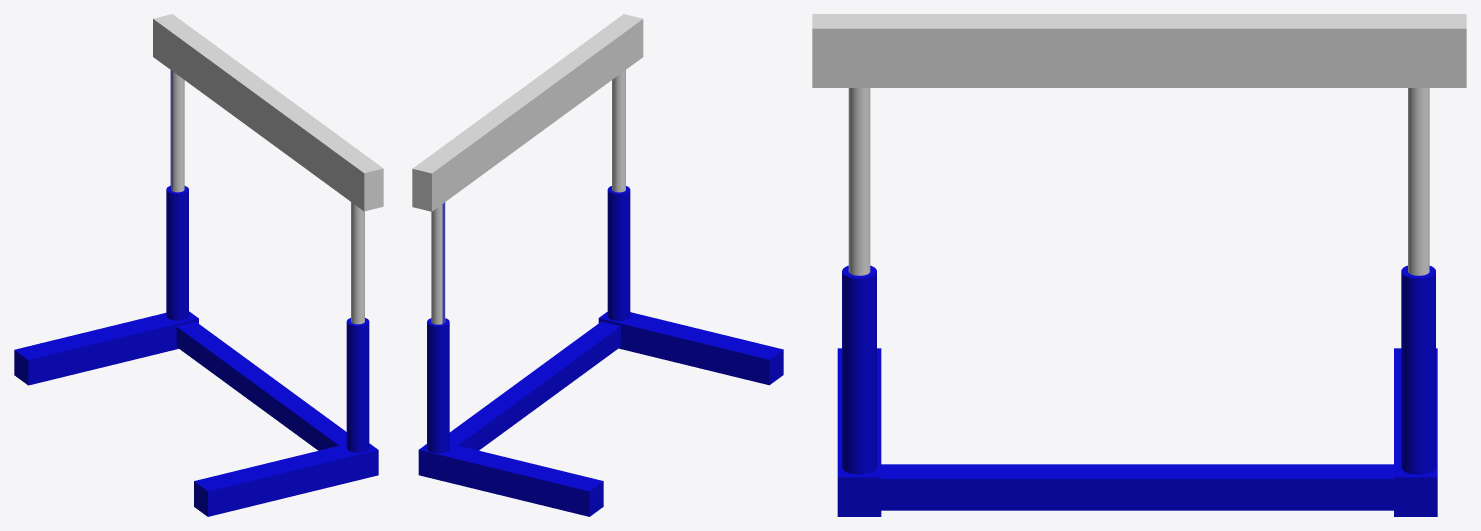
The model's file is hardle.fbx.
3 views of the same model, side by side, from view 1: azimuth 30°, elevation 25°; view 2: azimuth 150°, elevation 25°; view 3: azimuth 270°, elevation 25° (orthographic). The views are drawn at different scales.
Parts seen in each view (by area): view 1: ハードル; view 2: ハードル; view 3: ハードル.
Boxes of the visible parts, x1=… form: ハードル: x1=14, y1=14, x2=383, y2=516; ハードル: x1=412, y1=14, x2=783, y2=516; ハードル: x1=812, y1=14, x2=1466, y2=516.
Size of the model in its own units: 14 by 24.59 by 30.
